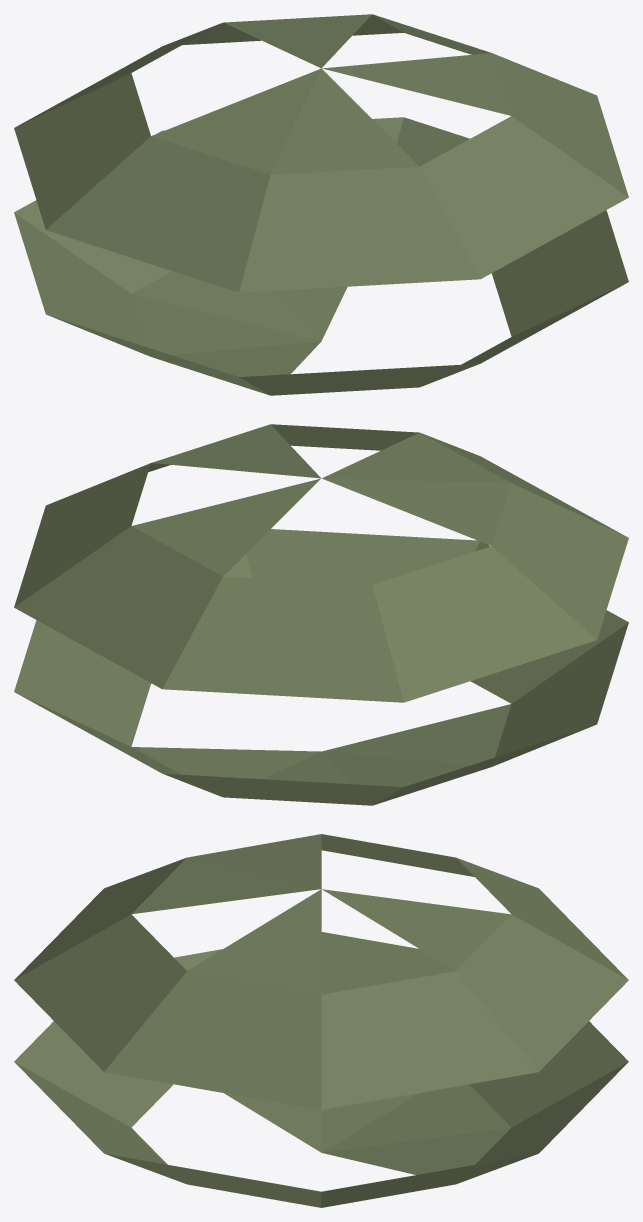
The model's file is prop_grave_lod1.glb.
The picture shows the model from 3 angles, top to bottom: view 1: azimuth 30°, elevation 25°; view 2: azimuth 150°, elevation 25°; view 3: azimuth 270°, elevation 25°; orthographic projection. The views are drawn at different scales.
Visible parts, largest first — view 1: prop_grave_lod1; view 2: prop_grave_lod1; view 3: prop_grave_lod1.
Boxes of the visible parts, x1,y1,x2,y2 form: prop_grave_lod1: (14,14,628,395); prop_grave_lod1: (14,424,628,805); prop_grave_lod1: (14,834,628,1207).
Size of the model in its own units: 2.28 by 1.08 by 2.28.
